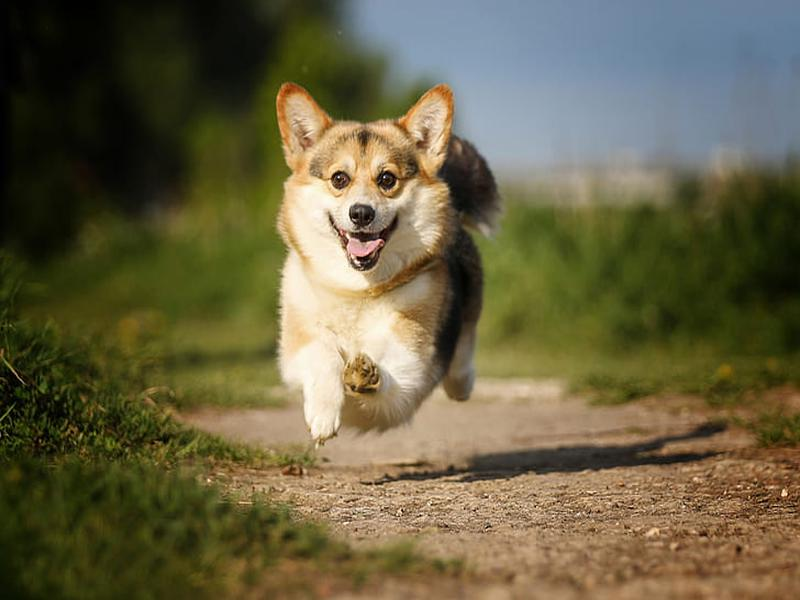corgi: (276, 81, 458, 274)
